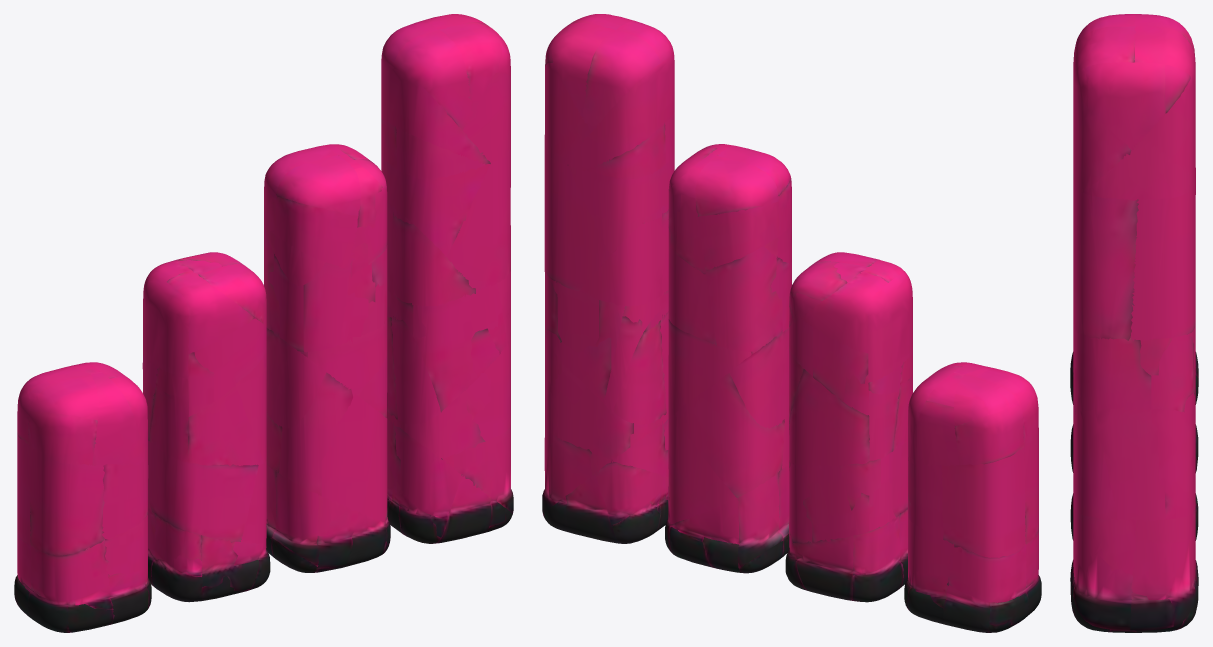
File: poplur_cube_bargraph.glb
3 renders of one model, left to right at view 1: azimuth 30°, elevation 25°; view 2: azimuth 150°, elevation 25°; view 3: azimuth 270°, elevation 25°, orthographic. The views are drawn at different scales.
Parts seen in each view (by area): view 1: mesh_node; view 2: mesh_node; view 3: mesh_node.
Part boxes in pixels (x1,y1,x2,y2): mesh_node: (14, 14, 513, 632); mesh_node: (542, 14, 1041, 632); mesh_node: (1070, 14, 1198, 632).
Size of the model in its own units: 1.9 by 1.9 by 0.3821.
Materials: 1 (1 with a texture image).
